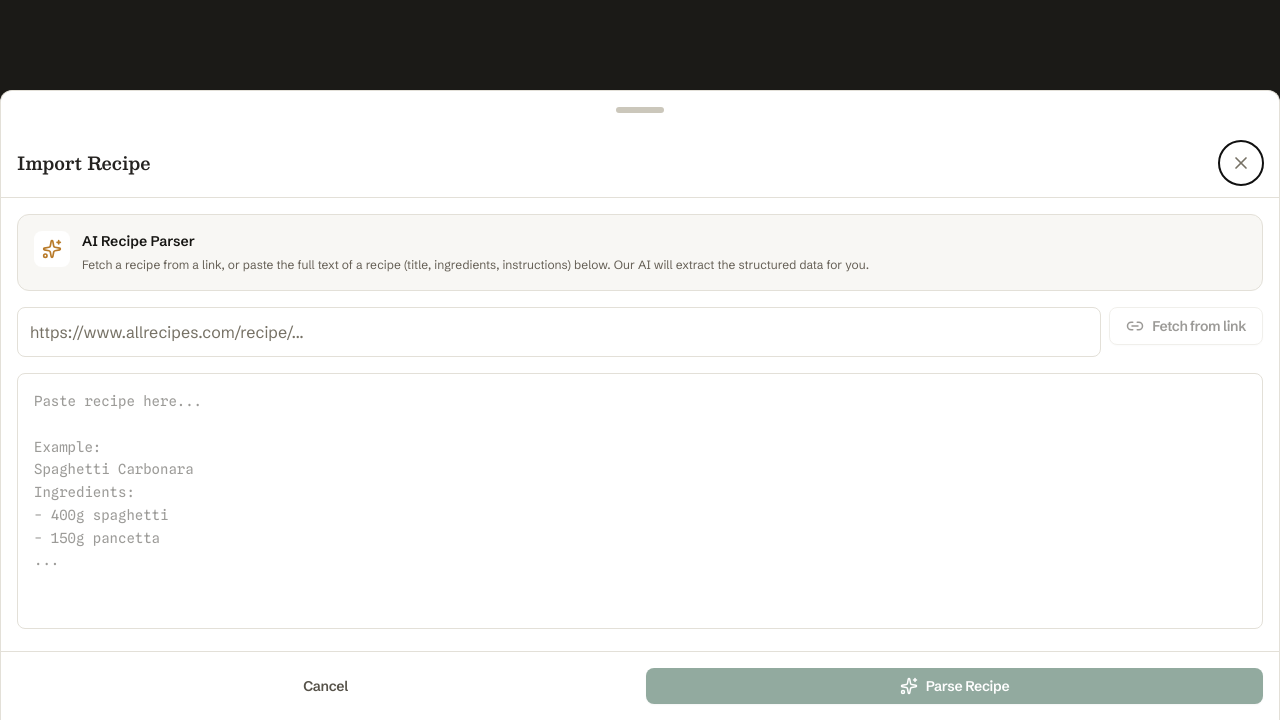
RecipeImportModal URL import › disables "Fetch from link" until a URL is entered
This screenshot has width=1280, height=720.
Expected: the button "Fetch from link" is disabled, [1109,307,1263,345]
Type "https://example.com/chili" into the field named "recipe link" at x=559, y=332, box [17,307,1101,357]
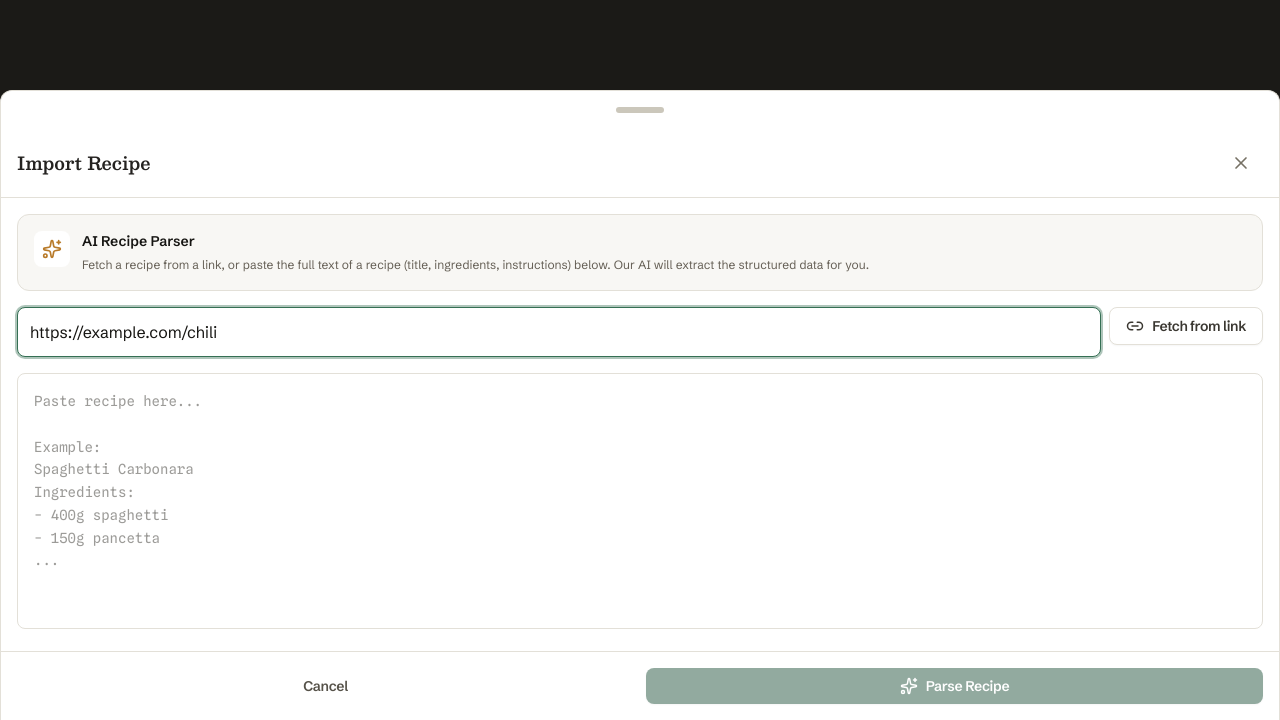
Expected: the button "Fetch from link" is enabled, [1109,307,1263,345]
